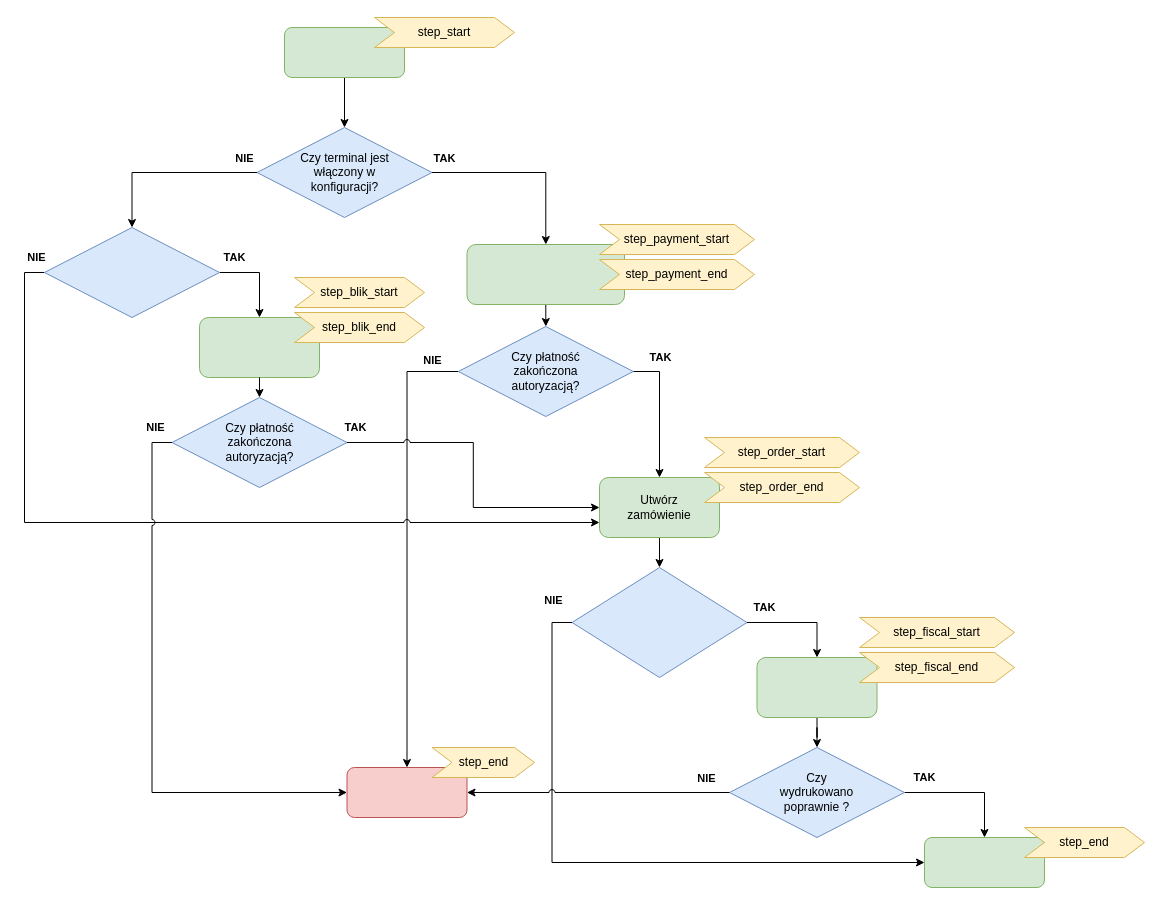
Image size: 1162x905. Some labels were removed from this diagram. Each missing label, with the centre of its shape:
"Czy drukarka fiskalna jest włączona w konfiguracji?" goes at (x=659, y=622).
"Czy obsługa BLIK włączona w konfiguracji?" goes at (x=132, y=272).
"Drukauj paragon fiskalny i potwierdzenie płatności" goes at (x=816, y=687).
"Koniec: Błąd" goes at (x=406, y=792).
"Koniec: Sukces" goes at (x=984, y=862).
"Rozpocznij transakcję BLIK" goes at (x=259, y=347).
"Rozpocznij transakcję na terminalu" goes at (x=545, y=274).
"Start" goes at (x=344, y=52).
